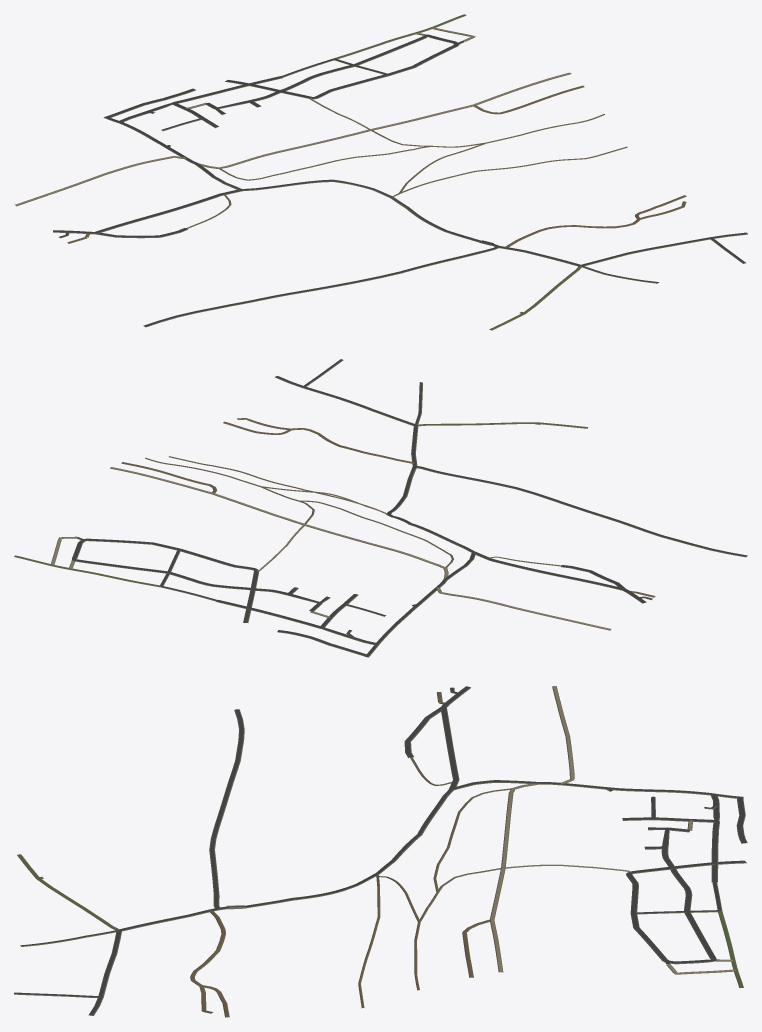
The picture shows the model from 3 angles, top to bottom: view 1: azimuth 30°, elevation 25°; view 2: azimuth 150°, elevation 25°; view 3: azimuth 270°, elevation 25°; orthographic projection. The views are drawn at different scales.
Parts seen in each view (by area): view 1: roads; view 2: roads; view 3: roads.
Boxes of the visible parts, <box> form: roads: <box>15,14,747,330</box>; roads: <box>14,359,747,657</box>; roads: <box>14,686,747,1017</box>.
Size of the model in its own units: 817 by 60.89 by 807.
